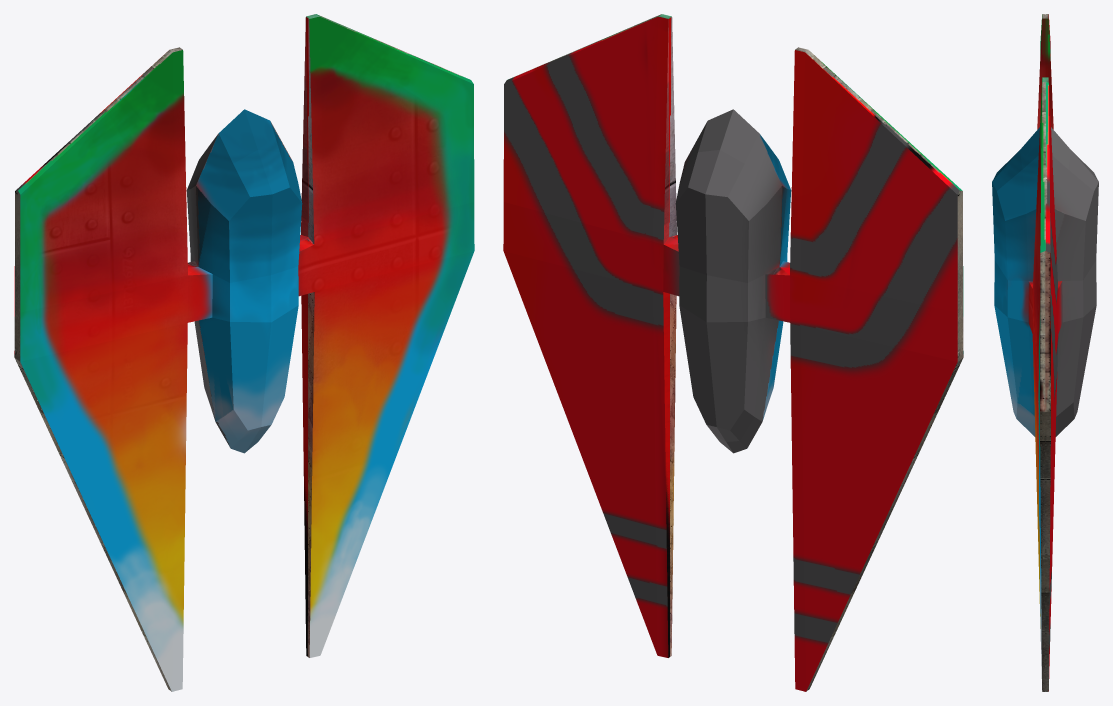
Rendered from enemy1.fbx.
The picture shows the model from 3 angles, left to right: view 1: azimuth 30°, elevation 25°; view 2: azimuth 150°, elevation 25°; view 3: azimuth 270°, elevation 25°; orthographic projection. The views are drawn at different scales.
Parts seen in each view (by area): view 1: Enemy1_Mesh; view 2: Enemy1_Mesh; view 3: Enemy1_Mesh.
Part boxes in pixels (x1,y1,x2,y2): Enemy1_Mesh: [14, 14, 474, 691]; Enemy1_Mesh: [503, 14, 963, 691]; Enemy1_Mesh: [992, 14, 1098, 691].
Size of the model in its own units: 101 by 136 by 21.71.
